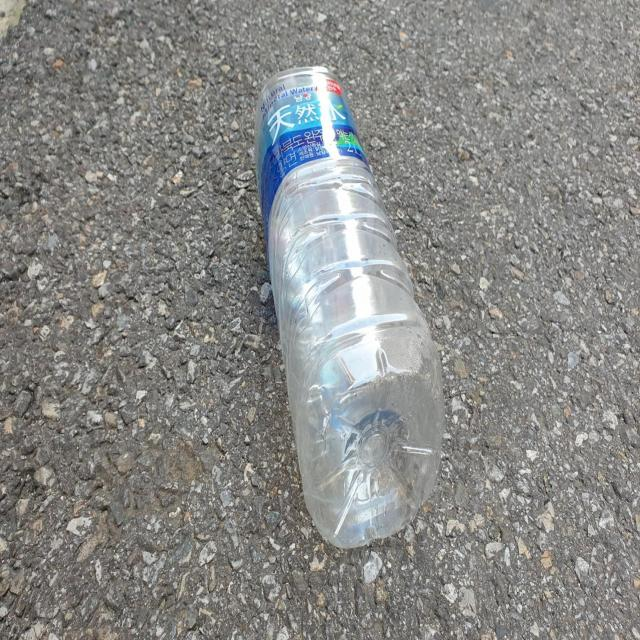plastic_bottle: (254, 65, 442, 549)
